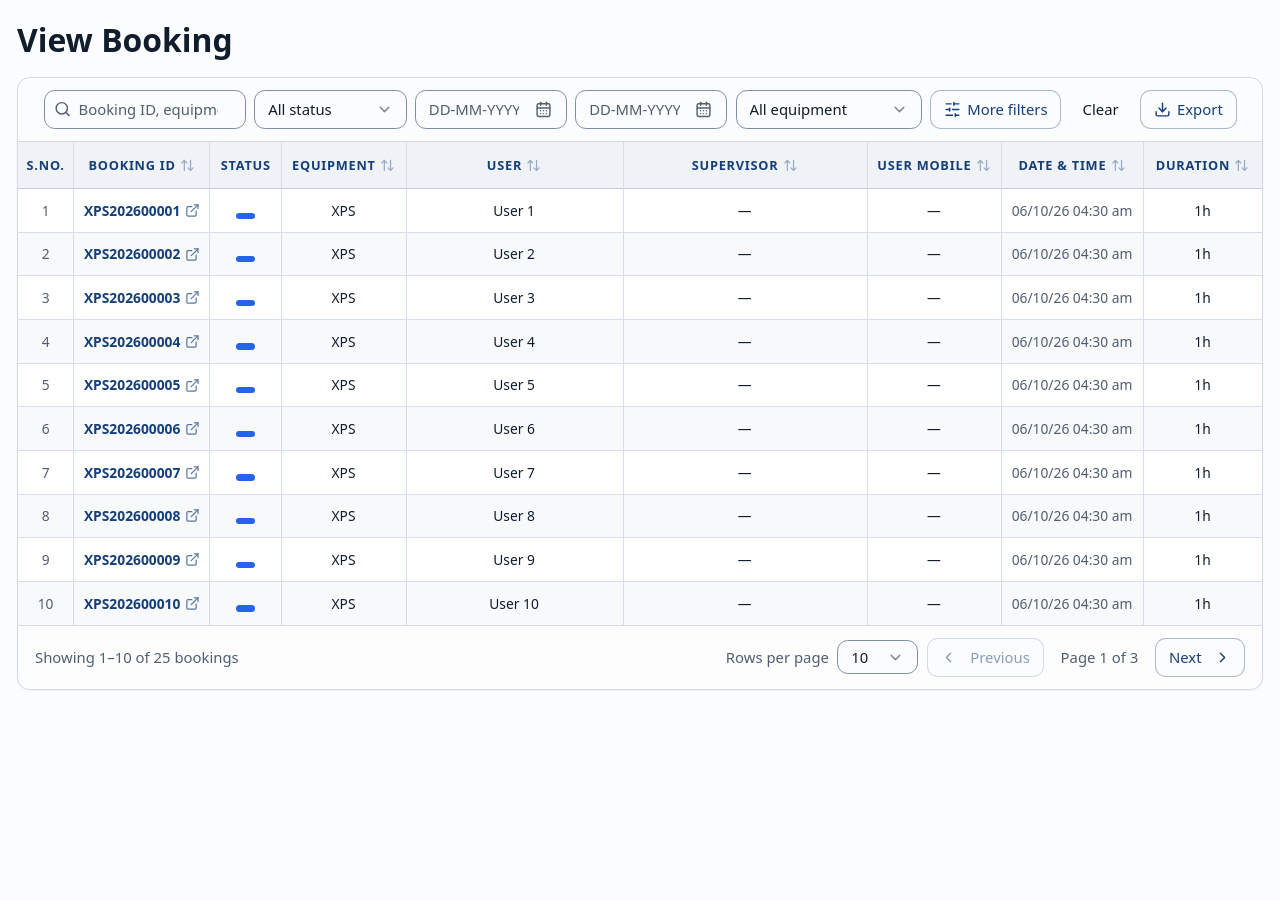
View Booking (staff) live filters › numbers rows with S.No continuing across pages
Expected: the button "XPS202600001" is shown, [84, 200, 200, 221]
Expected: the column heading "S.No." is shown, [18, 142, 73, 189]
Click the button "Next". click: (1200, 657)
box: [1155, 638, 1245, 677]
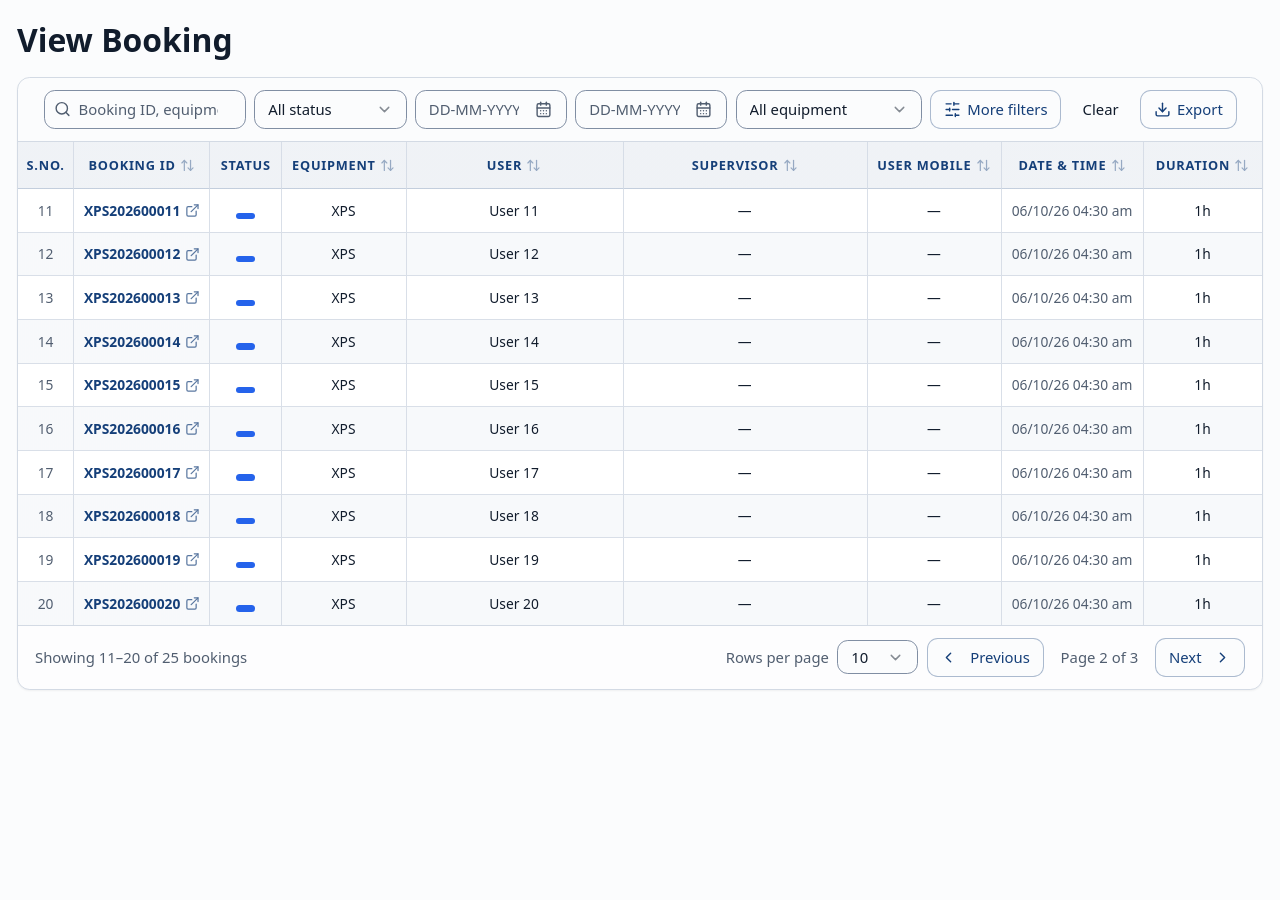
Result: the button "XPS202600011" is shown at [84, 200, 200, 221]
Result: the text "Showing 11–20 of 25 bookings" is shown at [35, 647, 247, 668]
